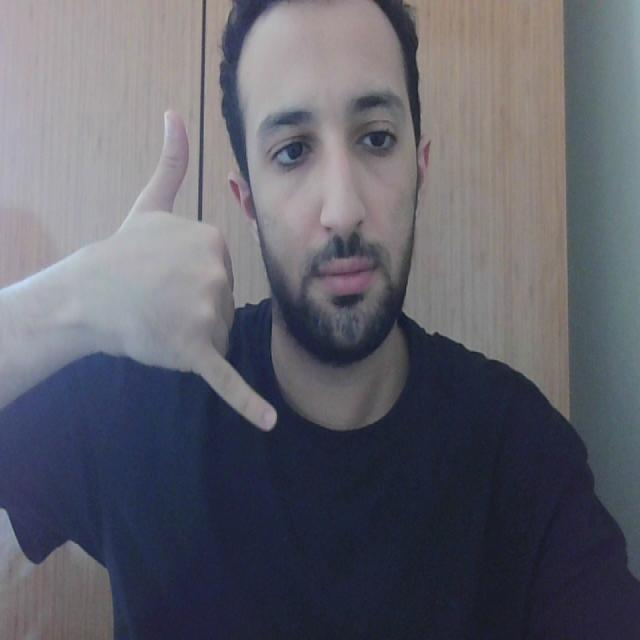Telefon: (142, 106, 286, 436)
